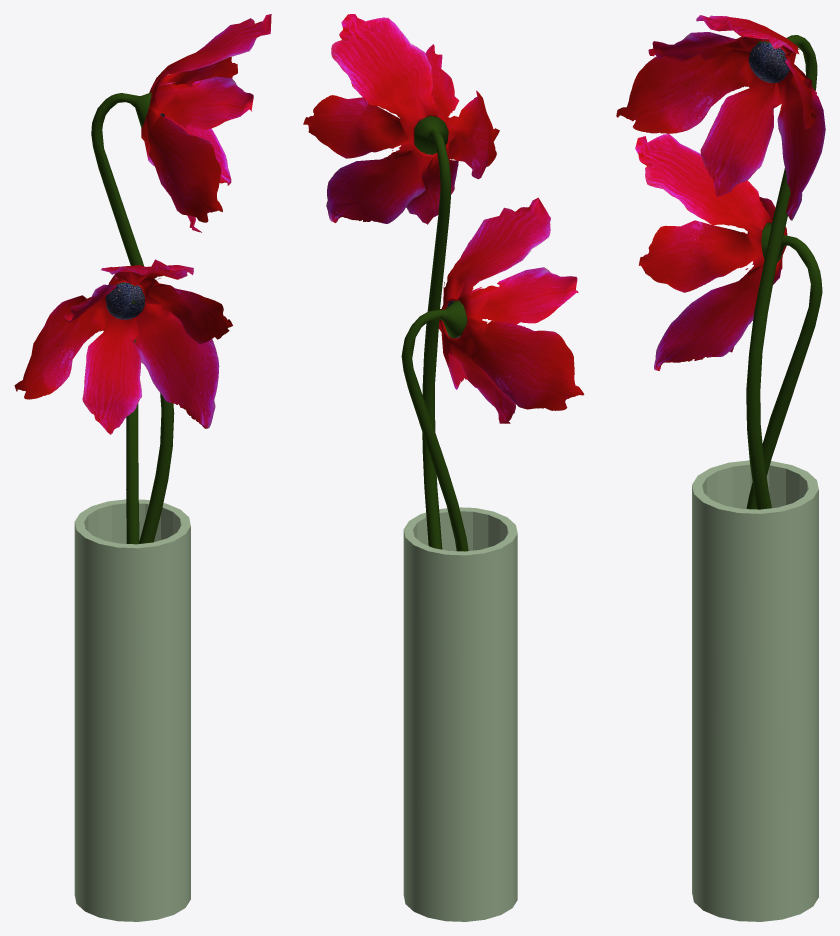
The model's file is Flowers.FBX.
3 renders of one model, left to right at view 1: azimuth 30°, elevation 25°; view 2: azimuth 150°, elevation 25°; view 3: azimuth 270°, elevation 25°, orthographic. The views are drawn at different scales.
Visible parts, largest first — view 1: Flowers; view 2: Flowers; view 3: Flowers.
Part boxes in pixels (box(x1,y1,x2,y2)): Flowers: box(14, 14, 271, 921); Flowers: box(303, 14, 584, 921); Flowers: box(616, 15, 825, 921).
Bounding box in the file's own units: 12.73 × 40.92 × 8.29.
2 materials, 1 textured.
